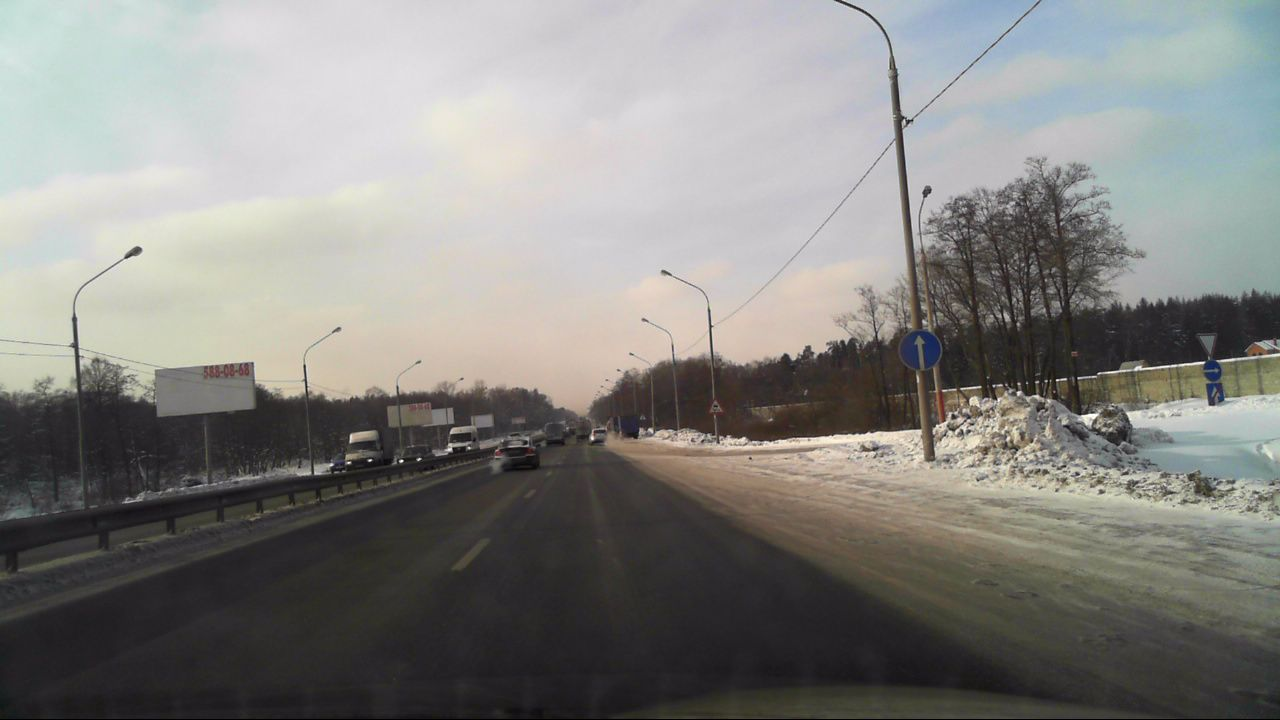Turn Right: (1202, 360, 1223, 383)
